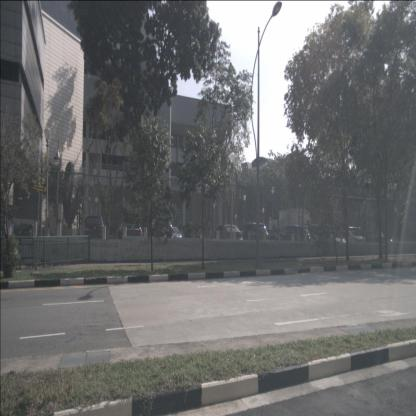human-pedestrian-adult: (77, 221, 80, 240)
vehicle-car: (274, 224, 310, 249), (237, 222, 268, 248), (149, 216, 173, 247), (211, 224, 243, 246), (334, 227, 366, 248), (118, 217, 143, 243), (314, 229, 346, 249), (84, 215, 104, 244), (369, 231, 393, 246), (164, 226, 182, 243), (22, 225, 39, 240)
